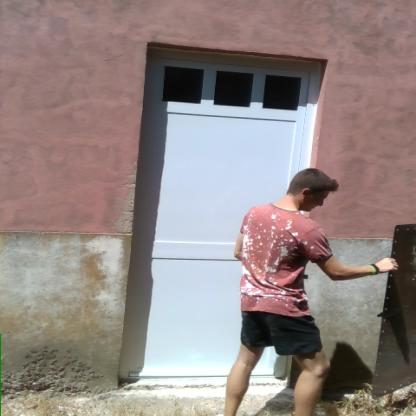closed: (118, 36, 333, 400)
